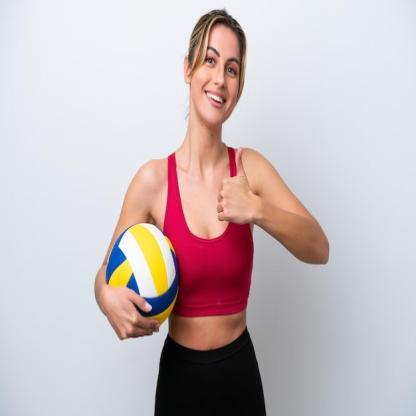thumb_up: (216, 142, 256, 228)
